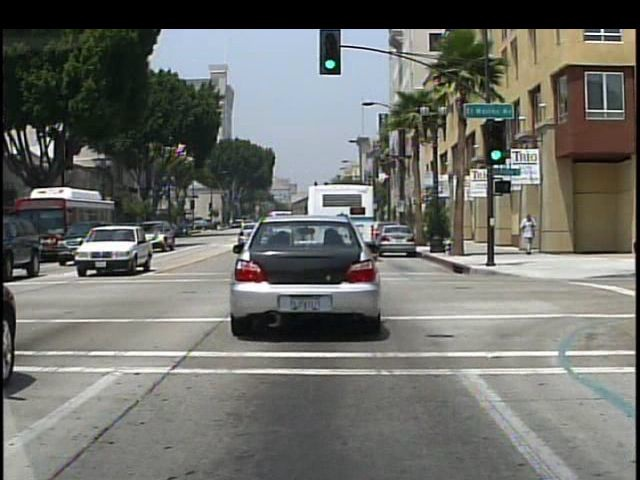person: (520, 210, 539, 256), (633, 241, 637, 256)
